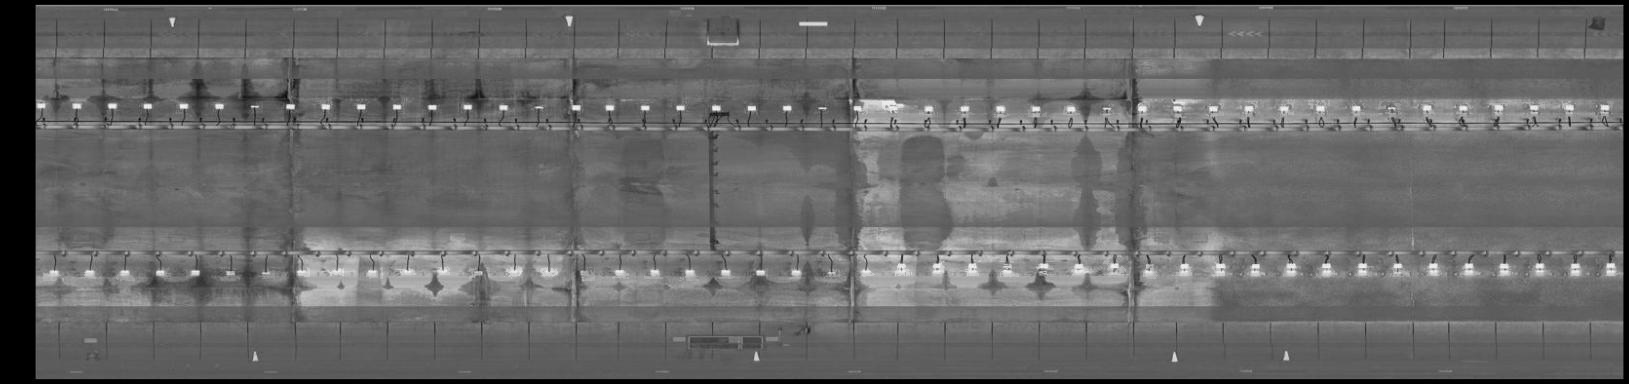light: (1314, 259, 1335, 280), (1350, 260, 1372, 279), (1101, 260, 1129, 275), (1390, 260, 1412, 277), (43, 266, 64, 281), (573, 266, 595, 281), (1308, 99, 1330, 114), (1458, 260, 1480, 275), (1280, 260, 1299, 278), (1423, 260, 1444, 276), (1378, 101, 1401, 114), (219, 267, 241, 281), (882, 101, 904, 115), (1172, 262, 1194, 276), (116, 265, 135, 281), (1029, 101, 1047, 117), (1000, 260, 1019, 277), (1247, 263, 1265, 279), (422, 100, 442, 115), (1140, 264, 1159, 279), (150, 266, 171, 279), (1067, 262, 1089, 275), (1564, 263, 1585, 276), (1212, 262, 1230, 278), (175, 99, 193, 114), (1036, 260, 1054, 276), (679, 267, 699, 281), (1130, 101, 1150, 115), (1594, 101, 1614, 114), (365, 265, 383, 279), (469, 267, 490, 279), (893, 263, 912, 277), (1063, 101, 1081, 115), (1487, 103, 1508, 115), (1523, 102, 1545, 114), (1601, 262, 1620, 276), (1494, 262, 1513, 276), (504, 266, 524, 279), (1204, 103, 1224, 116), (1529, 260, 1552, 272), (186, 269, 207, 281), (1170, 102, 1185, 118), (317, 100, 335, 114), (258, 265, 275, 279), (565, 101, 584, 114), (644, 266, 663, 279), (919, 102, 938, 115), (540, 267, 560, 279), (955, 103, 974, 115), (1275, 103, 1294, 115), (354, 99, 370, 114), (965, 260, 981, 276), (283, 99, 299, 113), (1348, 101, 1365, 115), (245, 100, 263, 113), (744, 101, 762, 114), (1240, 101, 1258, 114), (495, 102, 515, 113), (787, 267, 806, 279), (105, 100, 121, 114), (715, 268, 735, 279), (600, 101, 617, 114), (612, 266, 629, 279), (929, 260, 945, 274), (993, 104, 1010, 117), (1418, 101, 1435, 114), (68, 100, 85, 112), (458, 102, 477, 113), (1454, 103, 1473, 114), (1563, 101, 1578, 114), (389, 102, 405, 114), (636, 102, 653, 113), (671, 101, 689, 112), (81, 266, 96, 279), (211, 100, 226, 112), (752, 268, 768, 280), (139, 100, 154, 112), (1099, 103, 1114, 115), (434, 264, 450, 275), (397, 266, 416, 275), (293, 267, 310, 277), (777, 104, 794, 114), (851, 104, 867, 114), (36, 100, 51, 111), (328, 266, 344, 276), (824, 269, 840, 278), (814, 104, 829, 114), (531, 103, 546, 112), (859, 268, 875, 277), (707, 103, 723, 112)
